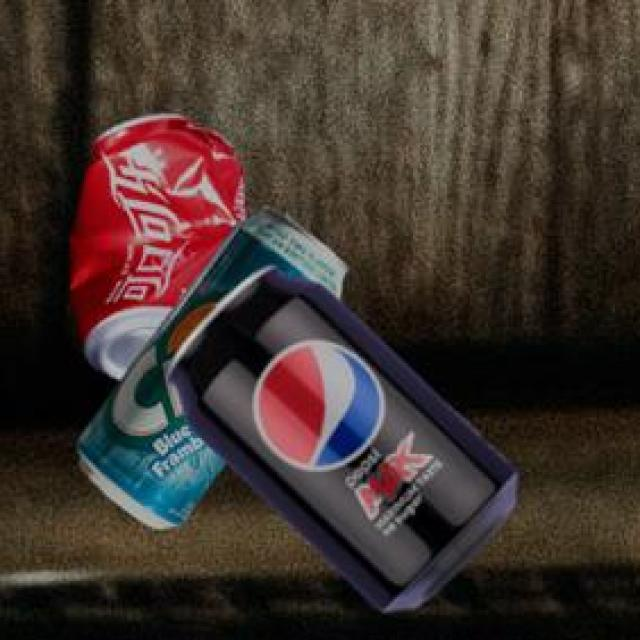logam: (171, 269, 521, 614), (81, 210, 351, 532), (74, 117, 249, 385)
